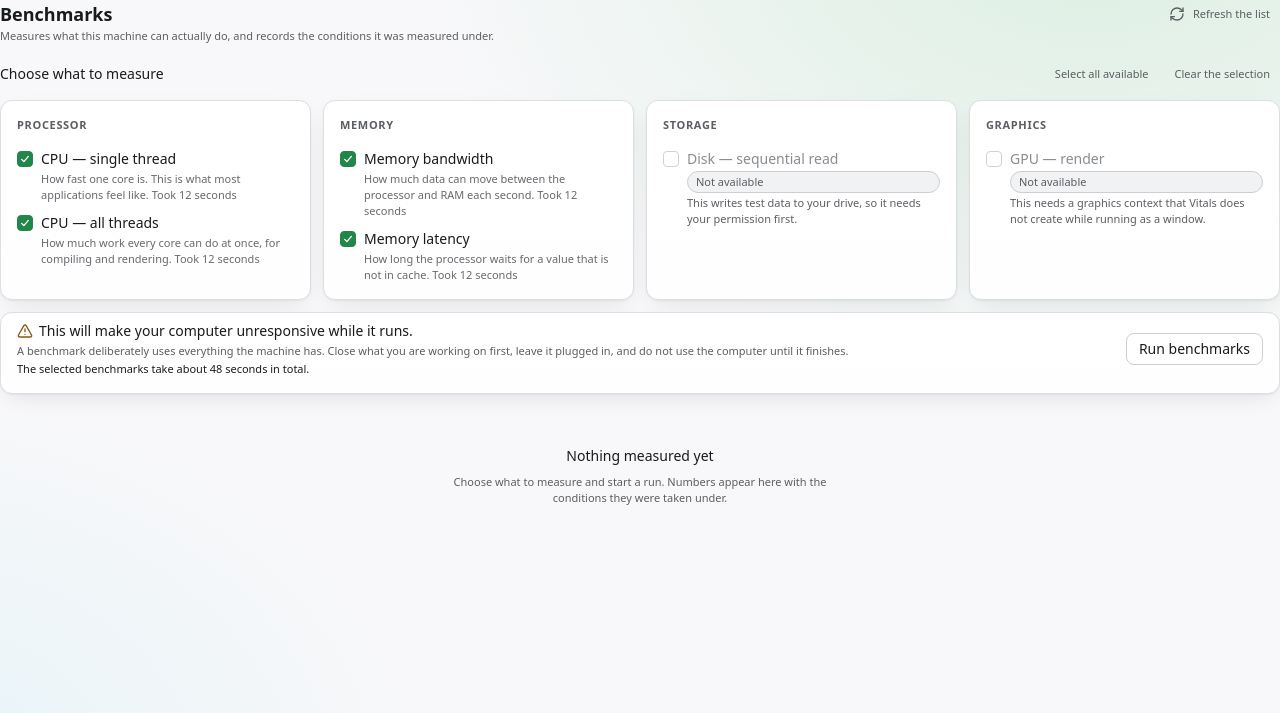
BenchmarksScreen › results › shows every individual run, not just the summary
Expected: the heading "Benchmarks" is shown, [0,2,112,26]
Click the button "Run benchmarks": (1194, 349) [1126,333,1263,365]
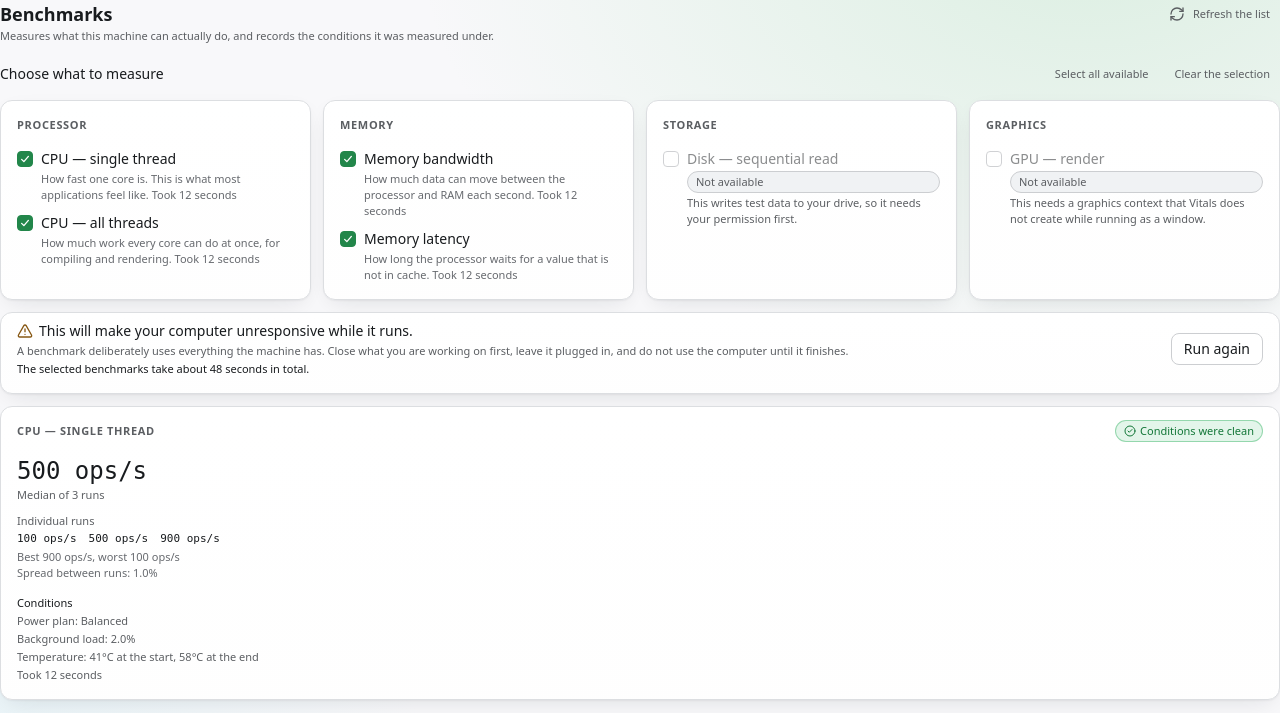
Expected: the list item "100 ops/s" is shown, [17,531,77,547]
Expected: the text "500 ops/s" is shown 2 times, [17,457,147,485]; [89,531,148,547]
Expected: the list item "900 ops/s" is shown, [160,531,220,547]
